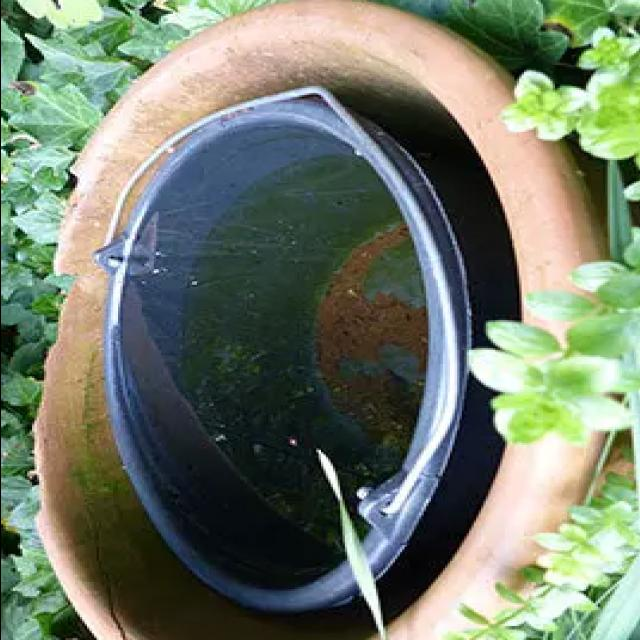Breeding Place: (35, 0, 605, 640)
